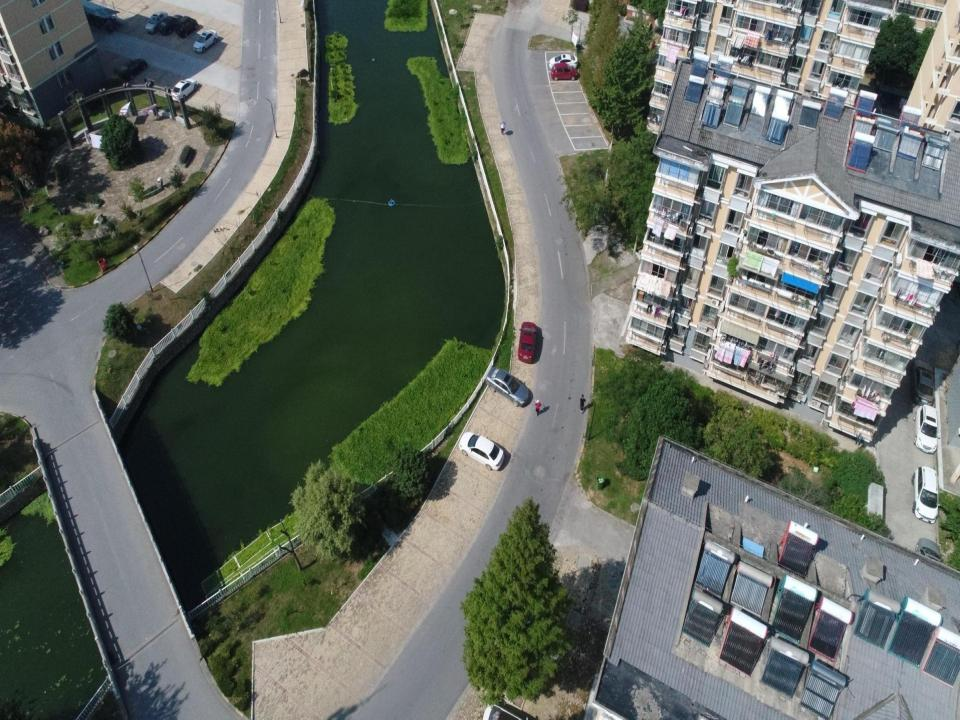car: (485, 365, 530, 407), (458, 432, 504, 470), (911, 466, 940, 524), (912, 404, 942, 454), (910, 358, 936, 407), (518, 322, 537, 364), (169, 77, 198, 103), (118, 58, 147, 80), (193, 29, 218, 53), (174, 16, 198, 39), (145, 11, 168, 34), (549, 53, 578, 71), (550, 63, 578, 81), (158, 15, 182, 35)
van: (914, 537, 942, 604)
